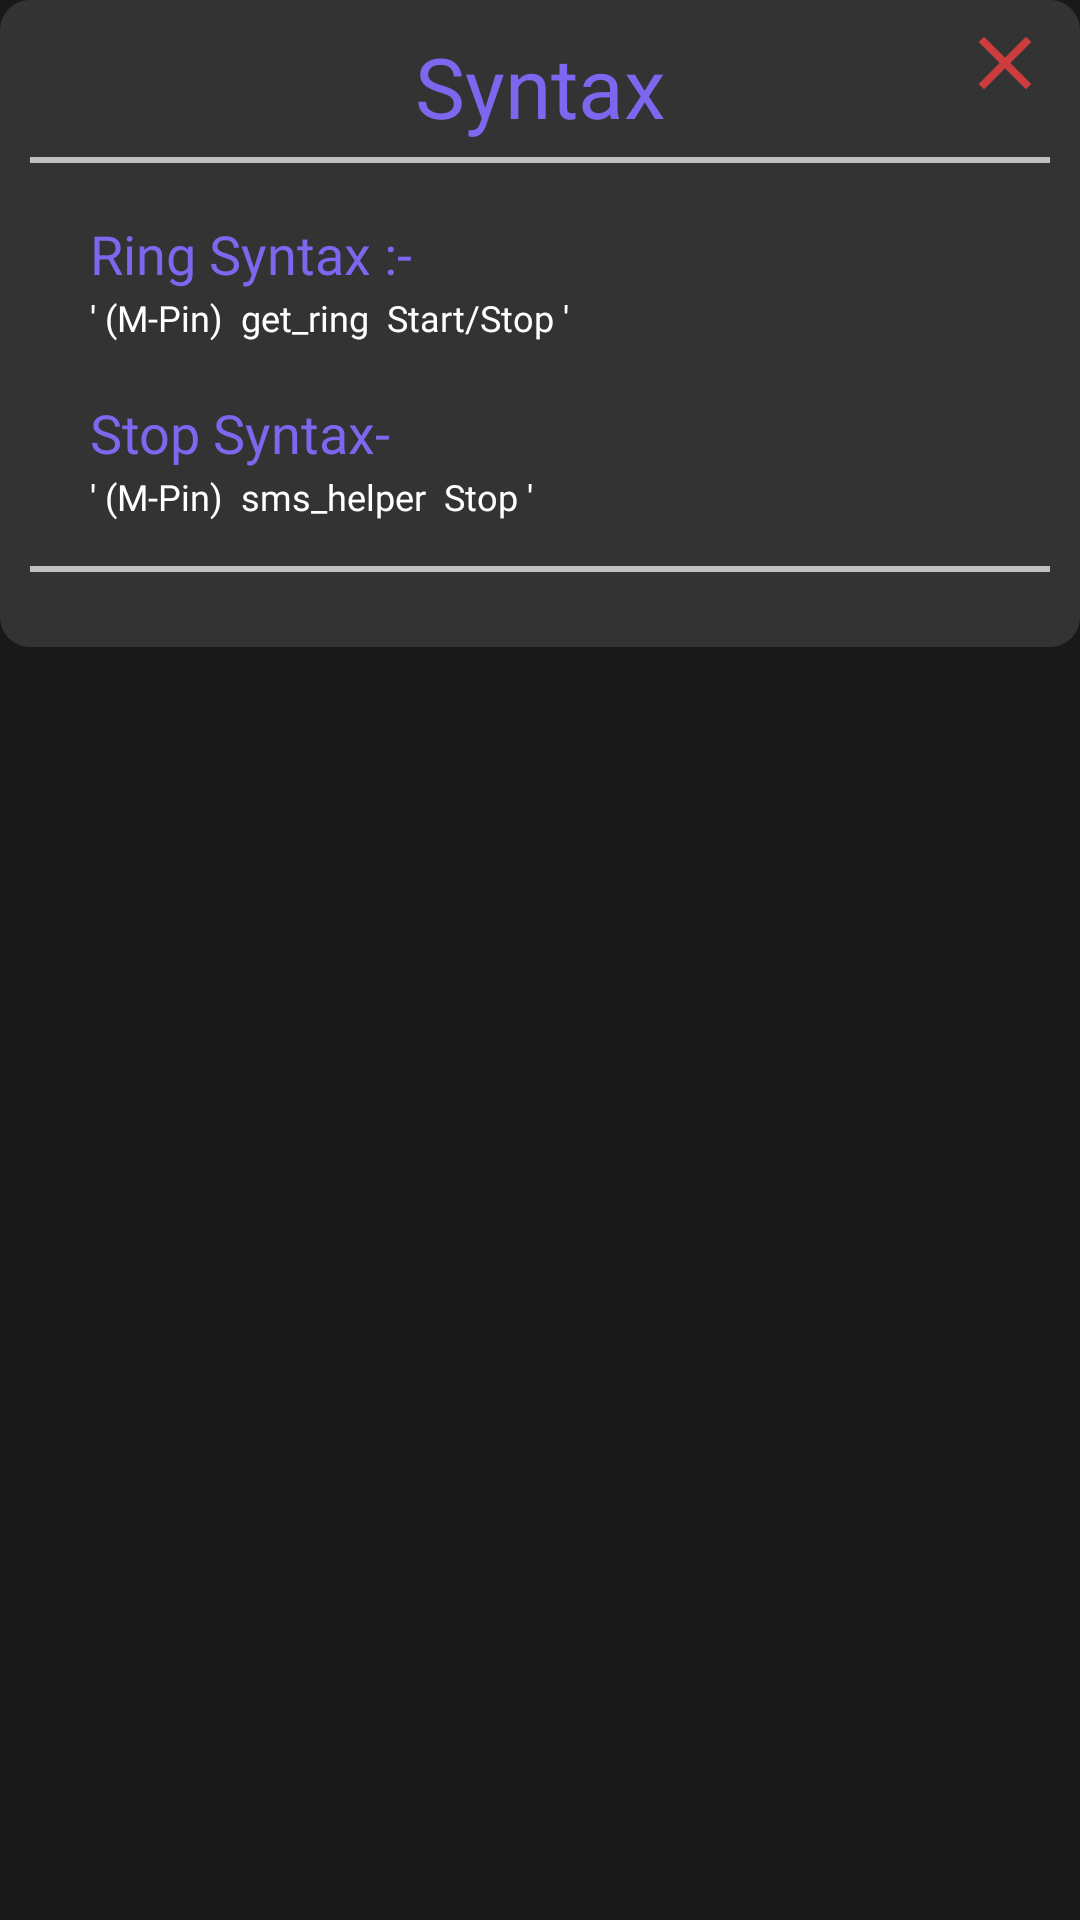

Where to tap for icons on this 1080px x 1920px app screen, as (x,y):
close: (1005,63)
